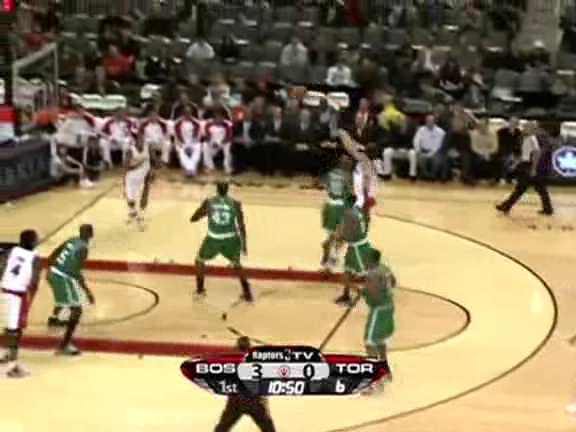person: (341, 201, 375, 282), (340, 201, 374, 282), (342, 201, 376, 282), (341, 200, 375, 281), (341, 202, 375, 283)
target_negative: (180, 107, 480, 337), (294, 252, 443, 431), (351, 328, 465, 386), (428, 95, 445, 224), (497, 397, 542, 407), (559, 15, 560, 165)
